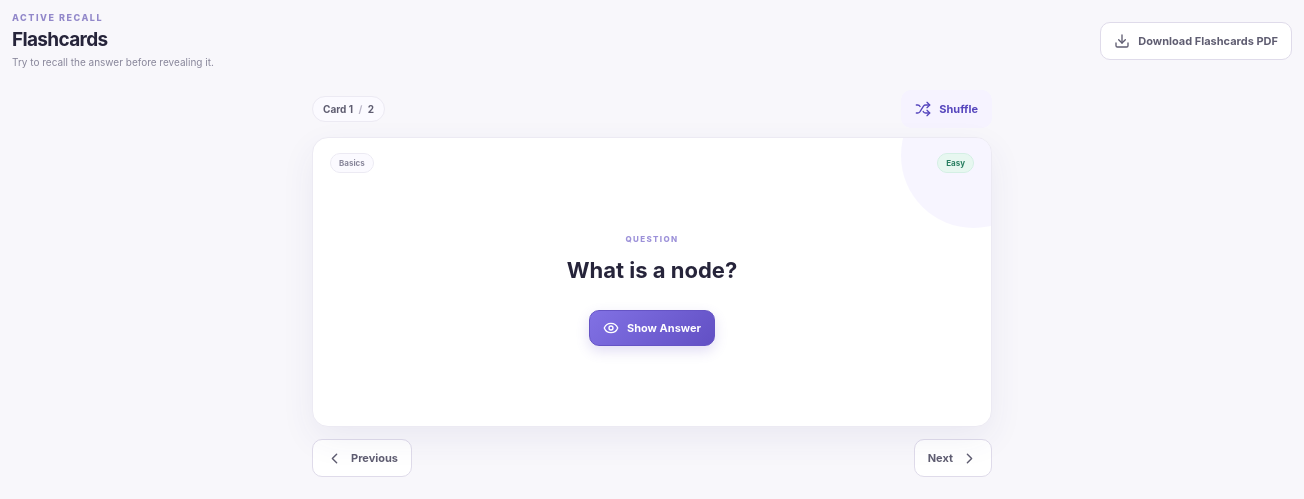
Test case: working interactive controls › reveals a flashcard answer and advances to the next card
The width and height of the screenshot is (1304, 499).
Expected: the text "What is a node?" is shown, 567,254 -> 737,286
Click the button "Show Answer".
click(652, 328)  # box 589,310 -> 715,346
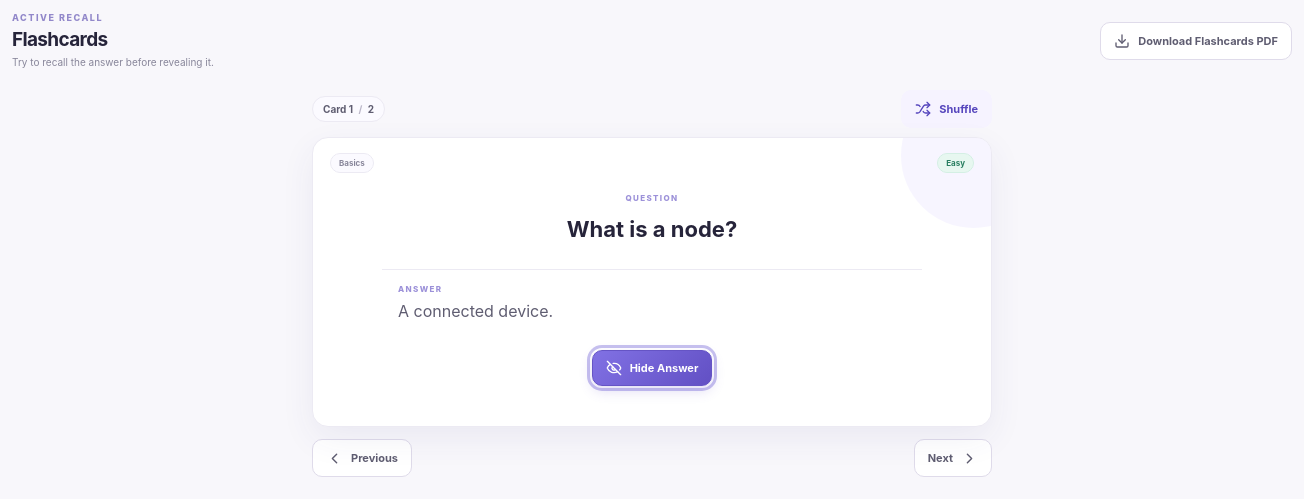
Expected: the text "A connected device." is shown, 398,301 -> 553,321
Click the button "Next".
click(953, 458)  # box 914,439 -> 992,477
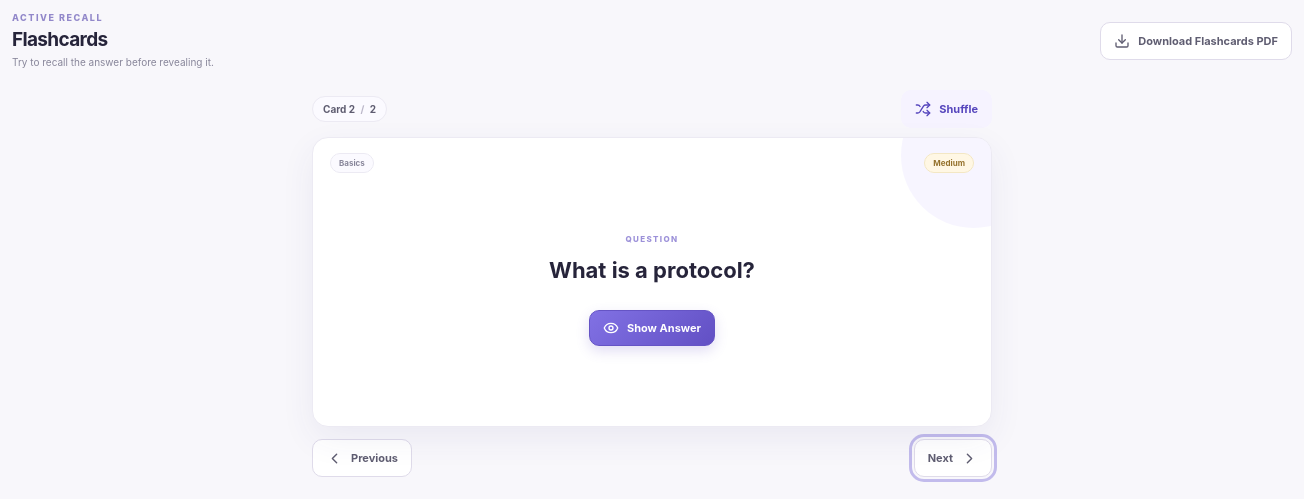
Expected: the text "What is a protocol?" is shown, 549,254 -> 755,286
